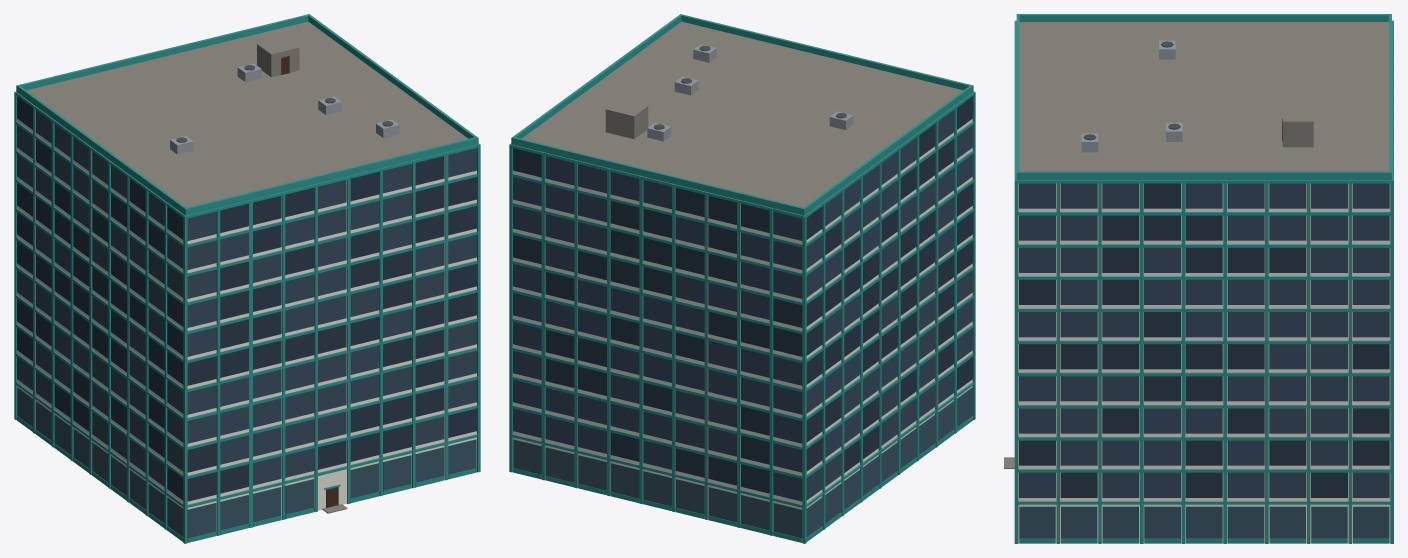
3 views of the same model, side by side, from view 1: azimuth 30°, elevation 25°; view 2: azimuth 150°, elevation 25°; view 3: azimuth 270°, elevation 25° (orthographic). The views are drawn at different scales.
Parts seen in each view (by area): view 1: off_b; view 2: off_b; view 3: off_b.
Part boxes in pixels (left/top/right/bottom): off_b: left=14, top=14, right=480, bottom=543; off_b: left=509, top=14, right=975, bottom=543; off_b: left=1004, top=14, right=1393, bottom=543.
Size of what is drawn, in the model's own units: 36.36 by 41.2 by 37.38.
